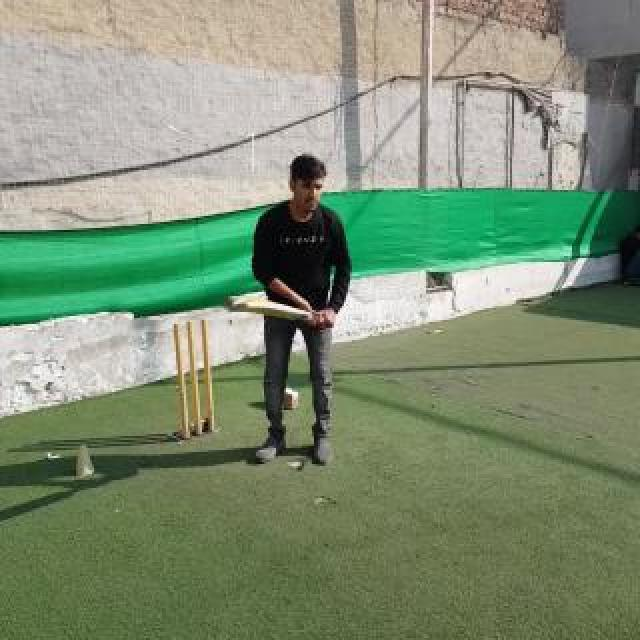bat: (228, 300, 334, 328)
